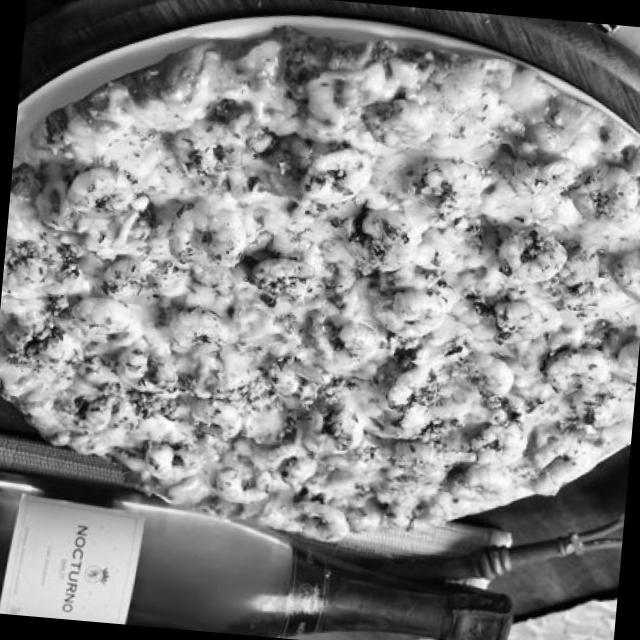camarao: (263, 134, 375, 214), (165, 195, 252, 275), (491, 222, 573, 296), (59, 162, 137, 228), (566, 160, 636, 230), (367, 282, 448, 342), (528, 429, 596, 500), (63, 292, 145, 346), (242, 254, 318, 310), (503, 155, 571, 207), (170, 310, 232, 367), (262, 435, 321, 487), (546, 346, 604, 398), (296, 503, 352, 546), (388, 438, 443, 481), (606, 244, 639, 307)
pizza: (0, 2, 639, 569)
